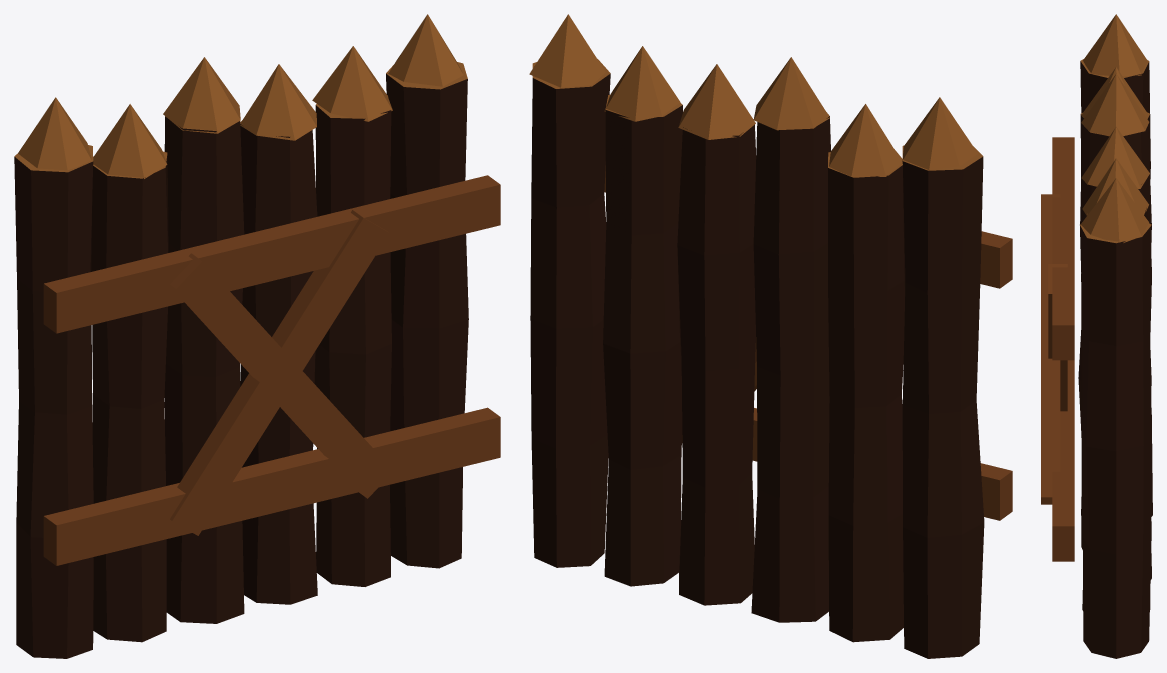
Rendered from woodgate.obj.
3 views of the same model, side by side, from view 1: azimuth 30°, elevation 25°; view 2: azimuth 150°, elevation 25°; view 3: azimuth 270°, elevation 25° (orthographic). The views are drawn at different scales.
Parts seen in each view (by area): view 1: Posts.001, Braces.001; view 2: Posts.001, Braces.001; view 3: Posts.001, Braces.001.
Boxes of the visible parts, x1,y1,x2,y2 form: Posts.001: (14,14,468,658); Braces.001: (43,175,500,565); Posts.001: (529,14,984,658); Braces.001: (604,165,1012,520); Posts.001: (1078,14,1152,658); Braces.001: (1041,137,1074,561).
Size of the model in its own units: 8 by 9.47 by 2.02.
